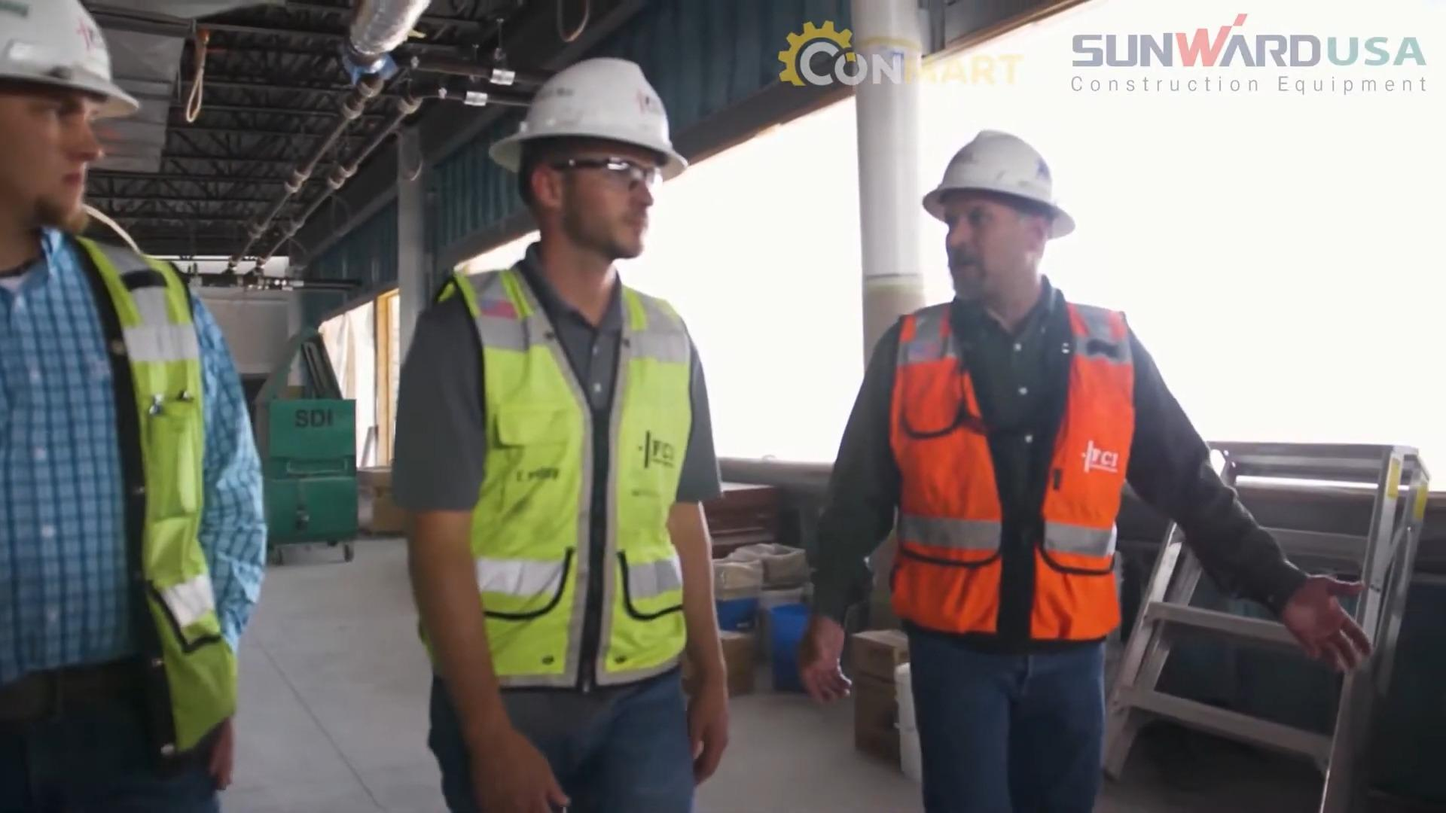Helmet: (487, 56, 688, 181), (934, 126, 1083, 233), (0, 0, 126, 87)
Person: (779, 115, 1237, 785), (333, 43, 742, 787), (0, 0, 267, 811)
Safety Vest: (0, 245, 252, 726), (467, 292, 697, 687), (908, 324, 1124, 640)
bare-arms: (1282, 566, 1374, 677), (458, 723, 567, 813), (787, 615, 847, 723), (687, 683, 738, 775), (211, 708, 260, 800), (866, 749, 887, 755)
